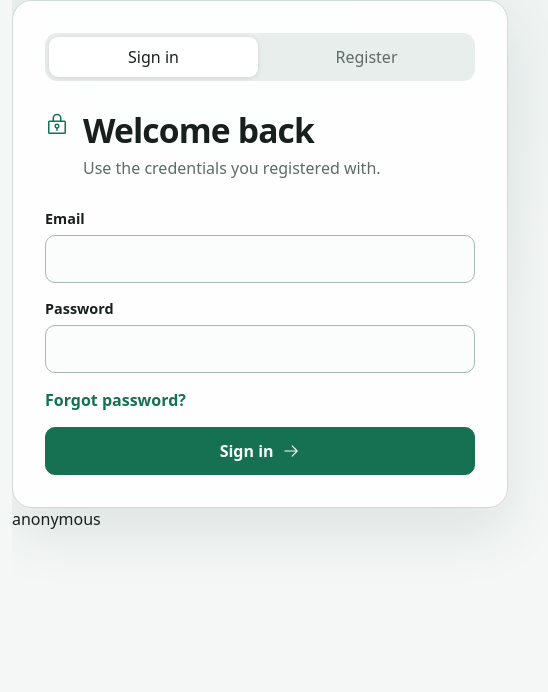
it: AuthProvider › registers a user and exposes the authenticated profile
Expected: the text "anonymous" is shown, [12,508,101,530]
Click the button "Register" at coordinates (366, 57), box [262,37,471,77]
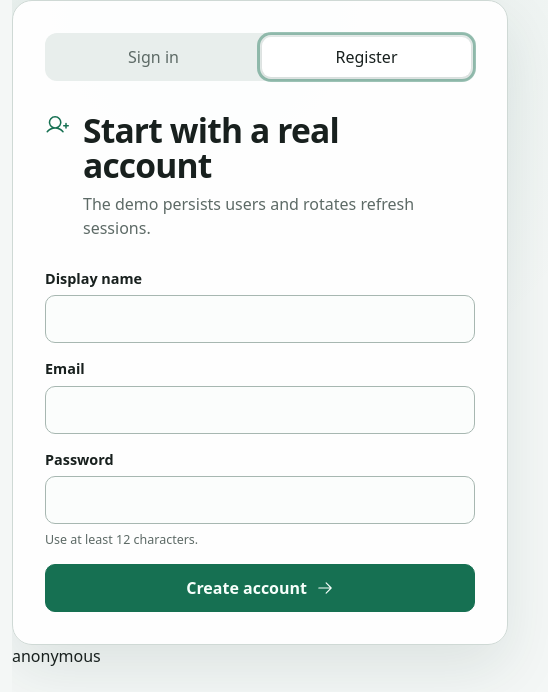
Type "Rhea Menon" into the field labelled "Display name" at coordinates (260, 319), box [45,295,475,343]
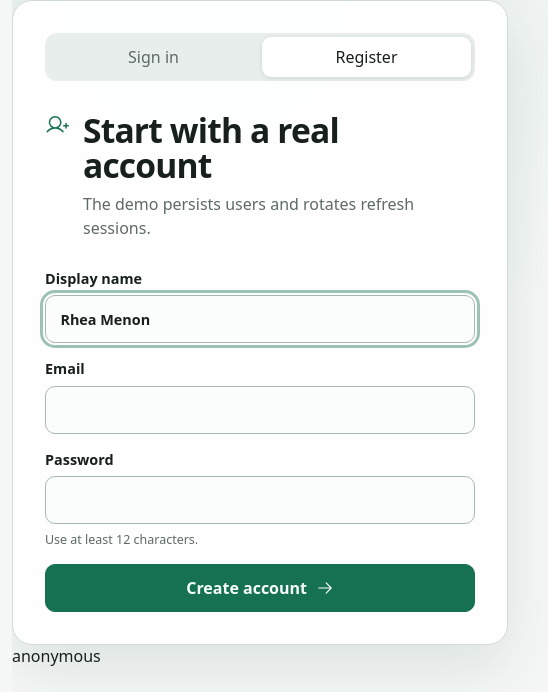
Type "rhea@example.com" into the field labelled "Email" at coordinates (260, 410), box [45,386,475,434]
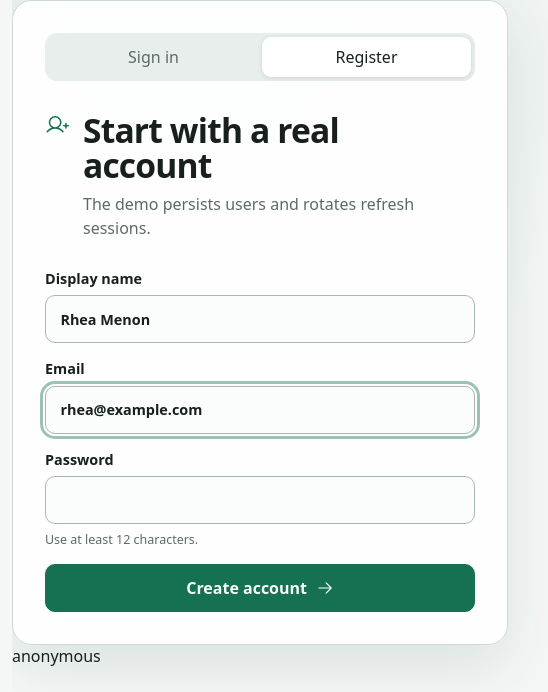
Type "a-long-password" into the password field labelled "Password Use at least 12 characters." at coordinates (260, 500), box [45,476,475,524]
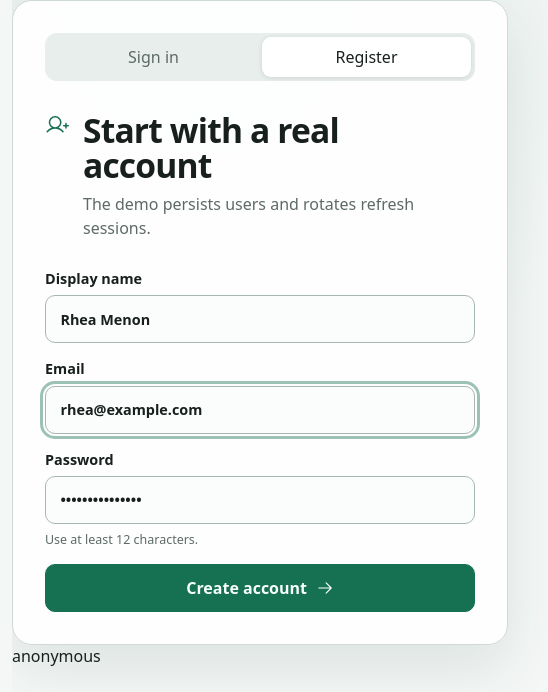
Click the button "Create account" at coordinates (260, 588), box [45,564,475,612]
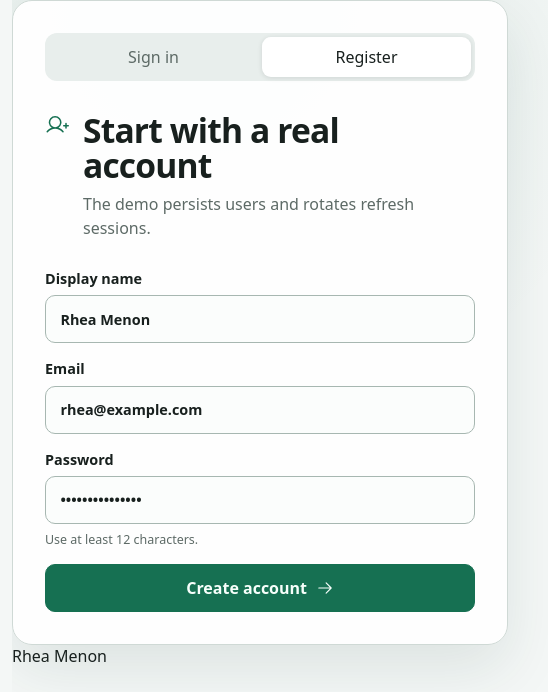
Expected: the text "Rhea Menon" is shown, [12,645,107,667]
